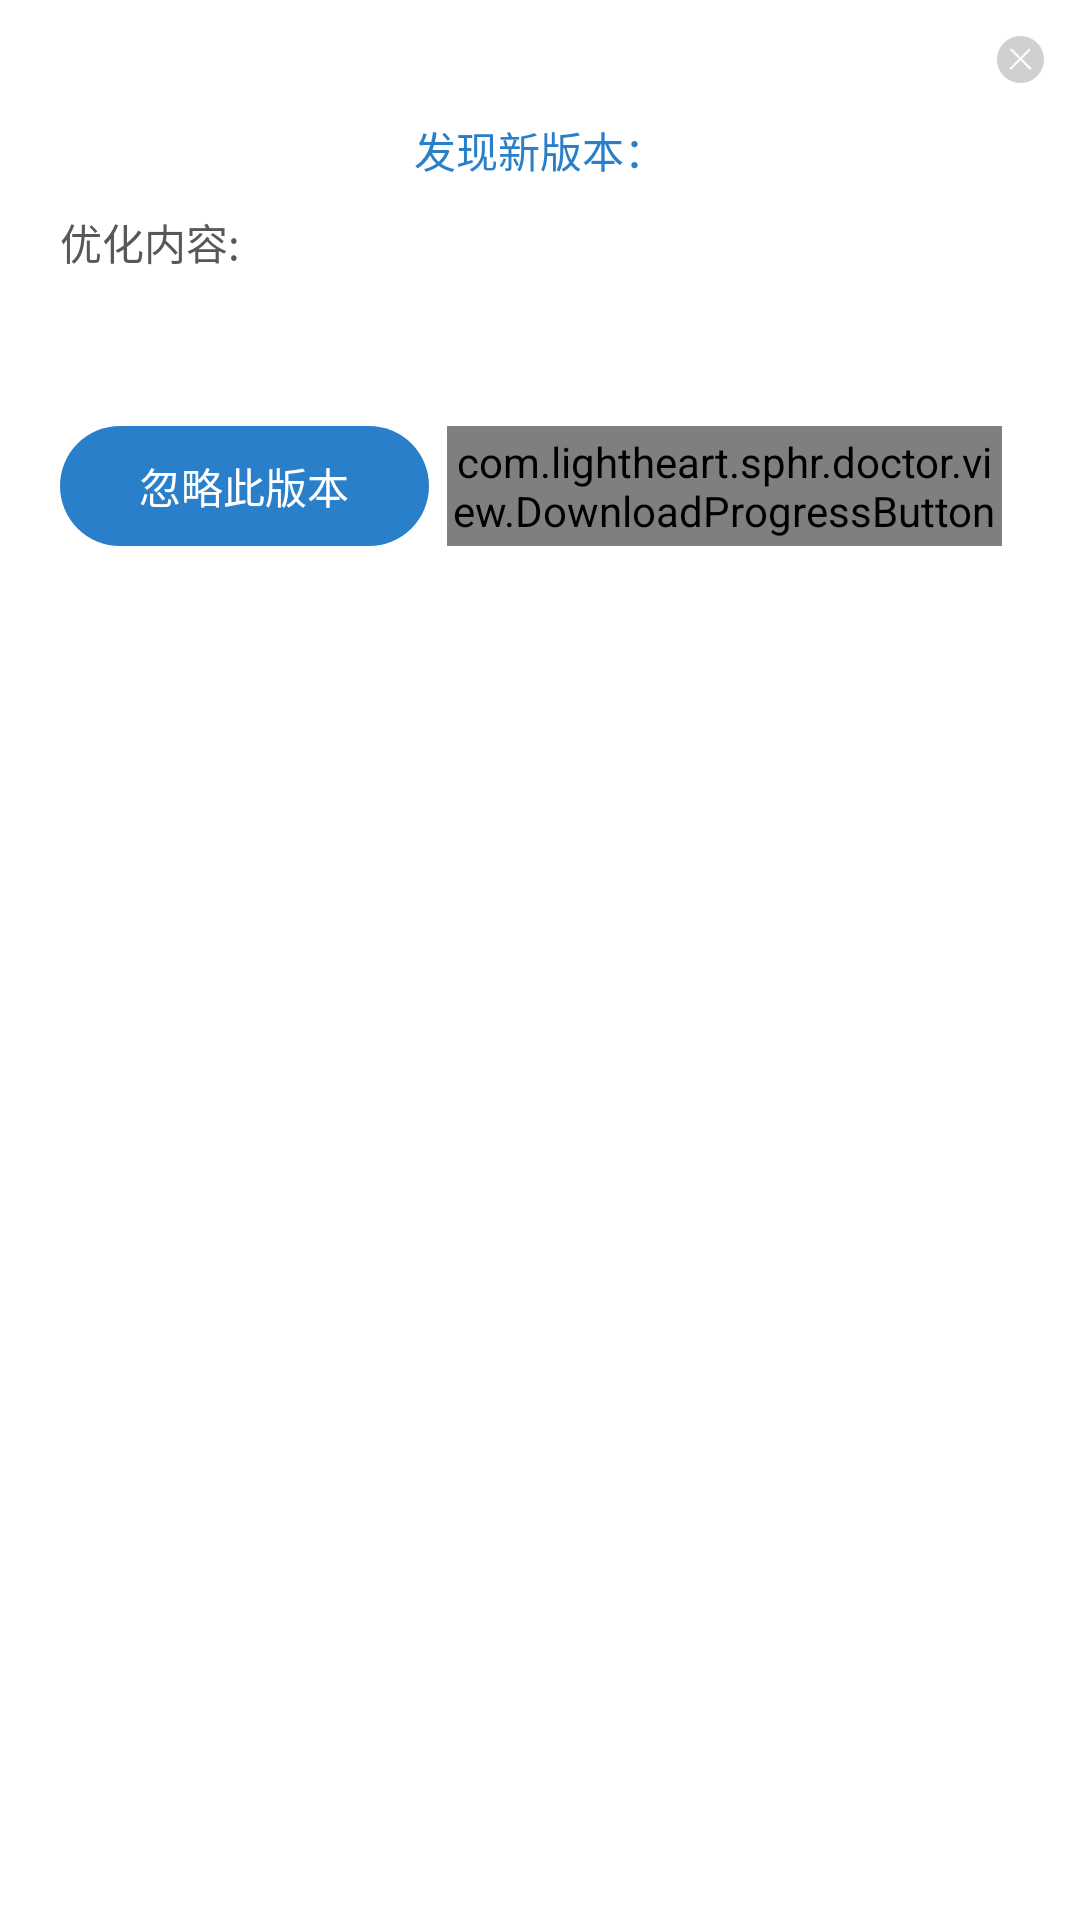

Locate icon controls on the screen. Image size 1080w x 1920h, boxes as Rect(x1, y1, x2, y2).
删除: Rect(997, 36, 1044, 83)
